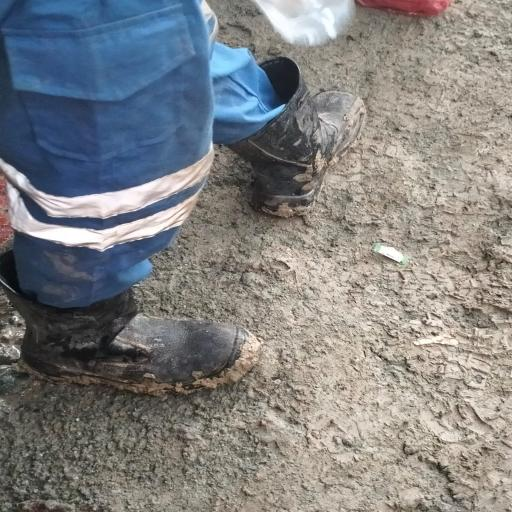safety_shoe: (0, 277, 265, 398), (237, 54, 370, 216)
